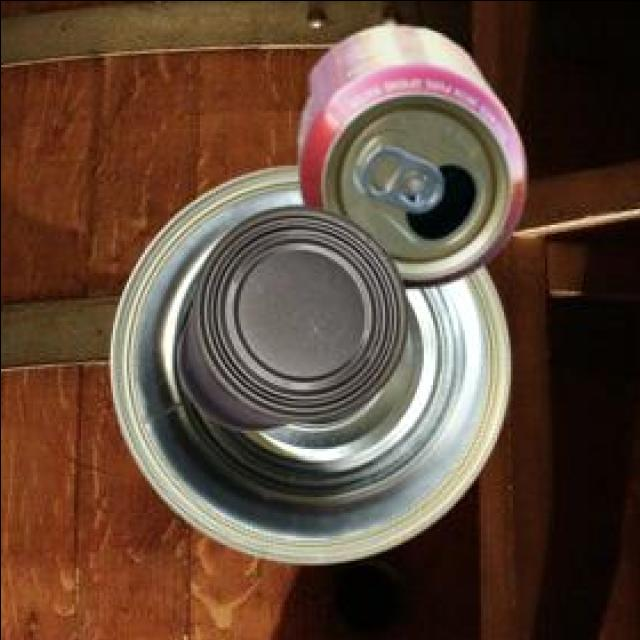logam: (113, 170, 513, 566), (301, 29, 527, 291), (179, 209, 410, 433)
